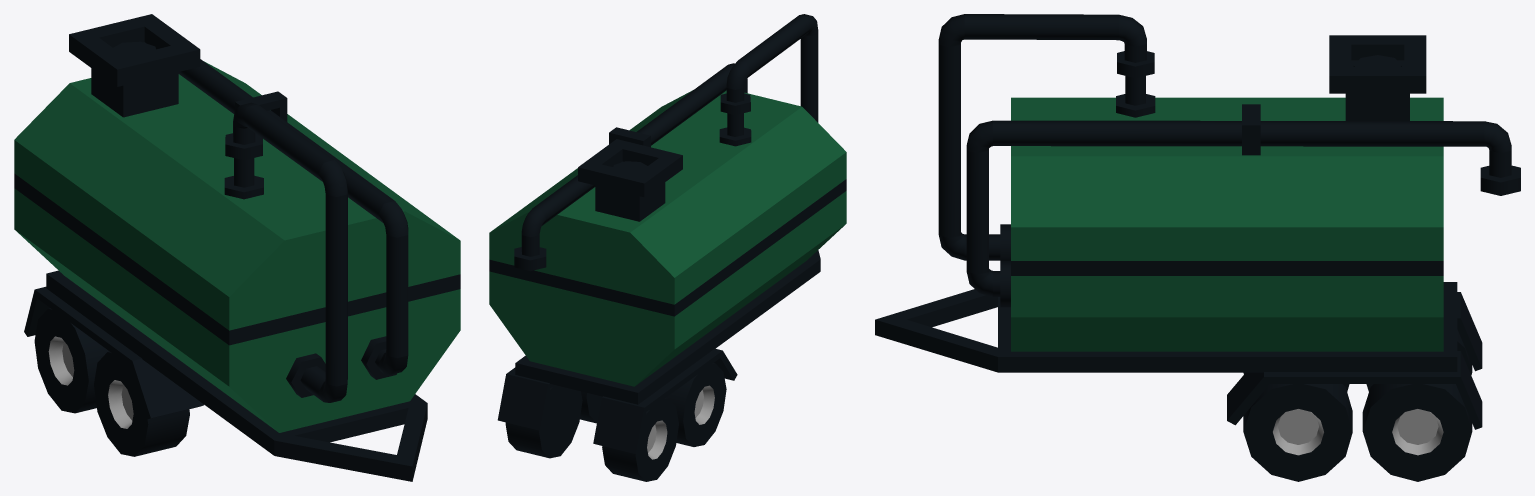
Rendered from Agricultural_Machine_3_1.fbx.
3 renders of one model, left to right at view 1: azimuth 30°, elevation 25°; view 2: azimuth 150°, elevation 25°; view 3: azimuth 270°, elevation 25°, orthographic. The views are drawn at different scales.
Parts seen in each view (by area): view 1: Agricultural_Machine_3_1; view 2: Agricultural_Machine_3_1; view 3: Agricultural_Machine_3_1.
Boxes of the visible parts, <box> form: Agricultural_Machine_3_1: <box>14,14,460,481</box>; Agricultural_Machine_3_1: <box>489,14,846,481</box>; Agricultural_Machine_3_1: <box>875,14,1520,481</box>.
Size of the model in its own units: 80.04 by 133 by 192.
